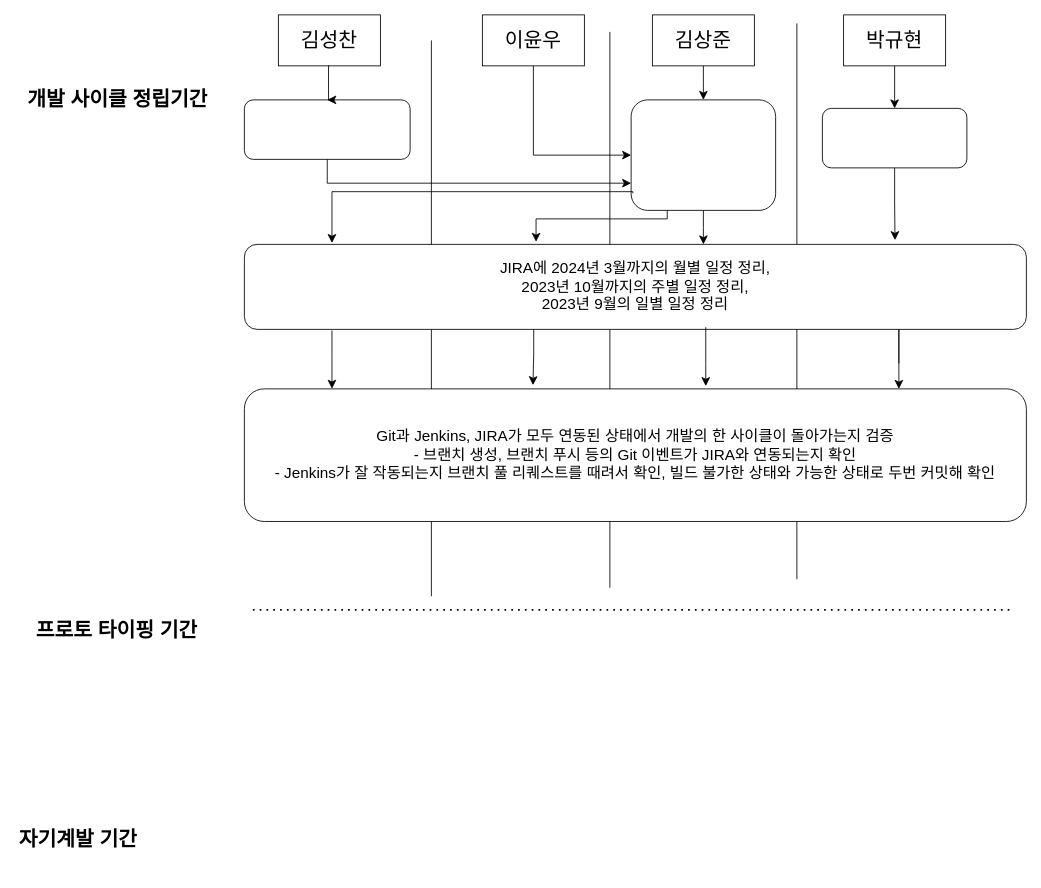
Some shapes in this 1041 by 888 pixel diagram are drawn without their labels. Each missing label, with the centre of its shape:
Git -JIRA 연동: pixel 894 138
Jenkins - JIRA 연동 (깊은 이해 수반 필요 X): pixel 327 129
애자일 개발에 적합하게 JIRA 기능을 추려 정리 (일정관리 기능을 특히 자세히): pixel 703 154
